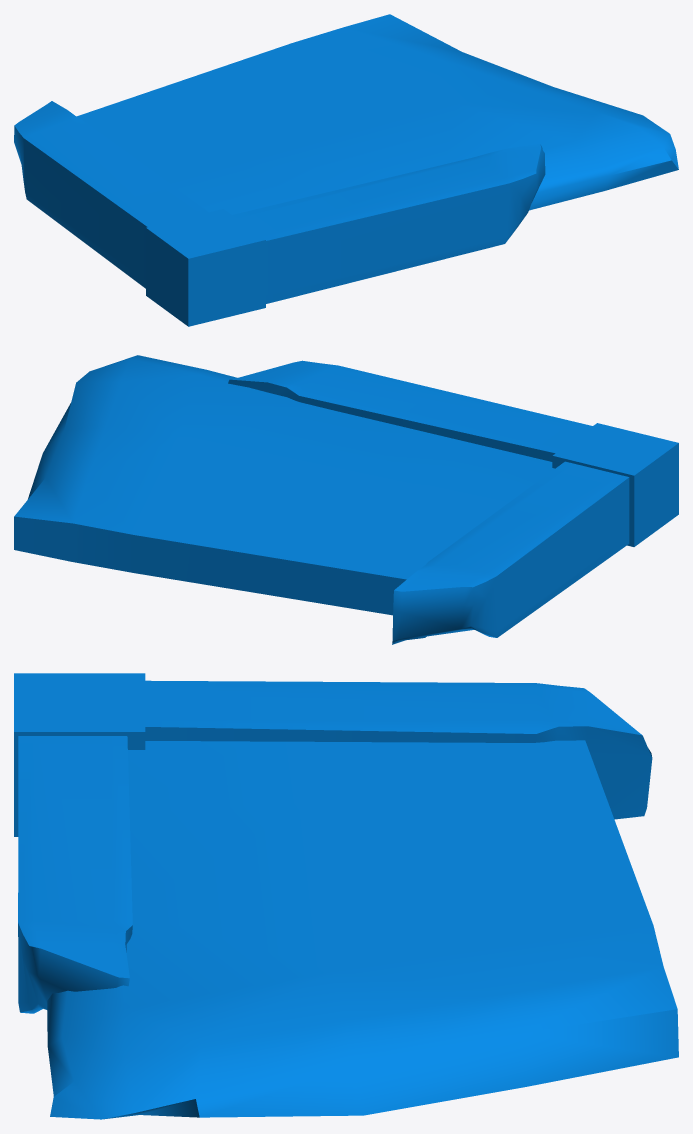
The model's file is Floor_08.fbx.
3 renders of one model, top to bottom at view 1: azimuth 30°, elevation 25°; view 2: azimuth 150°, elevation 25°; view 3: azimuth 270°, elevation 25°, orthographic. The views are drawn at different scales.
Parts seen in each view (by area): view 1: Floor_08; view 2: Floor_08; view 3: Floor_08.
Part boxes in pixels (x1,y1,x2,y2): Floor_08: (14,14,678,326); Floor_08: (14,355,678,644); Floor_08: (14,673,678,1119).
Bounding box in the file's own units: 1173 × 146 × 840.
